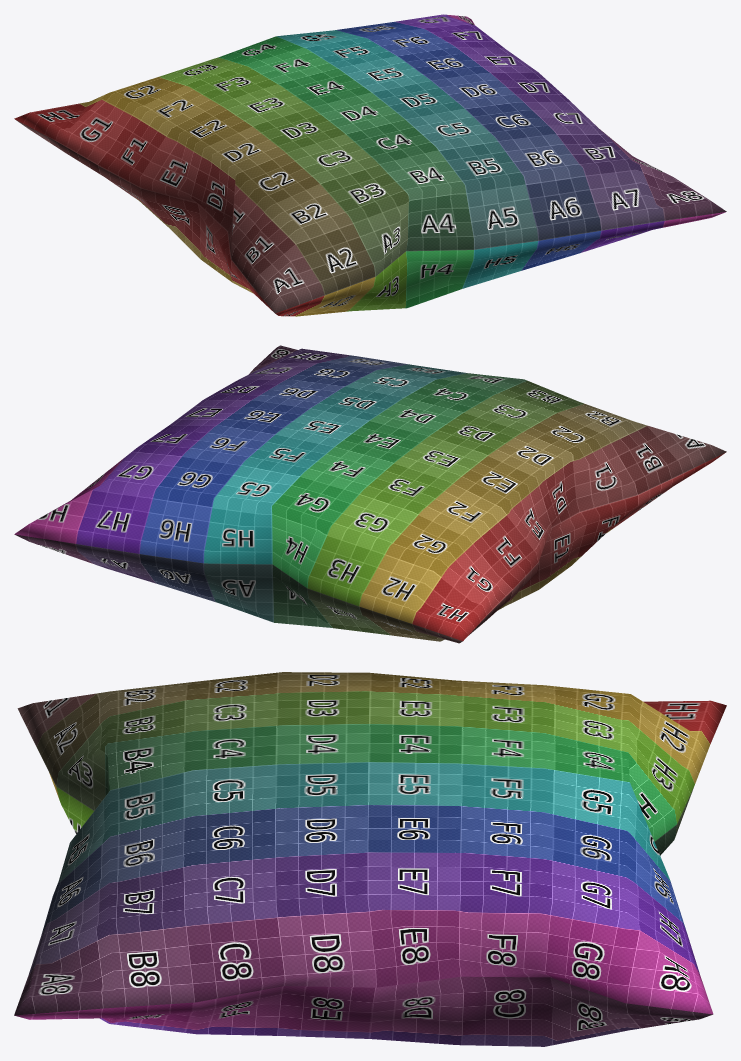
File: cushion.glb
3 views of the same model, one above another, from view 1: azimuth 30°, elevation 25°; view 2: azimuth 150°, elevation 25°; view 3: azimuth 270°, elevation 25° (orthographic). The views are drawn at different scales.
Visible parts, largest first — view 1: Grid.001; view 2: Grid.001; view 3: Grid.001.
Part boxes in pixels (x1=…): Grid.001: x1=14, y1=14, x2=726, y2=316; Grid.001: x1=14, y1=345, x2=726, y2=643; Grid.001: x1=14, y1=672, x2=726, y2=1046.
Bounding box in the file's own units: 0.3836 × 0.1179 × 0.3858.
Materials: 1 (1 with a texture image).
